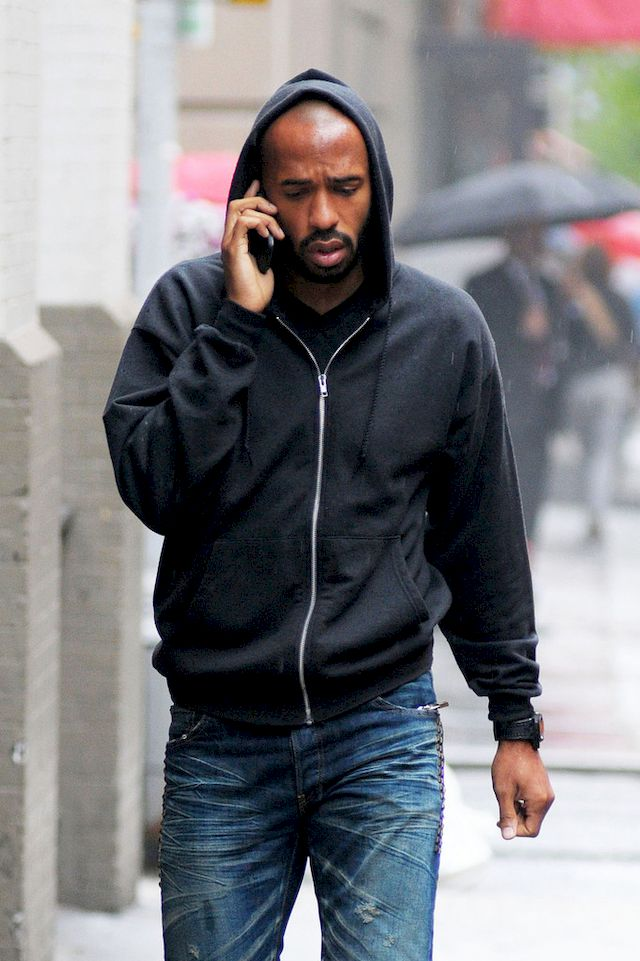phone: (228, 185, 284, 266)
talk: (215, 153, 371, 293)
